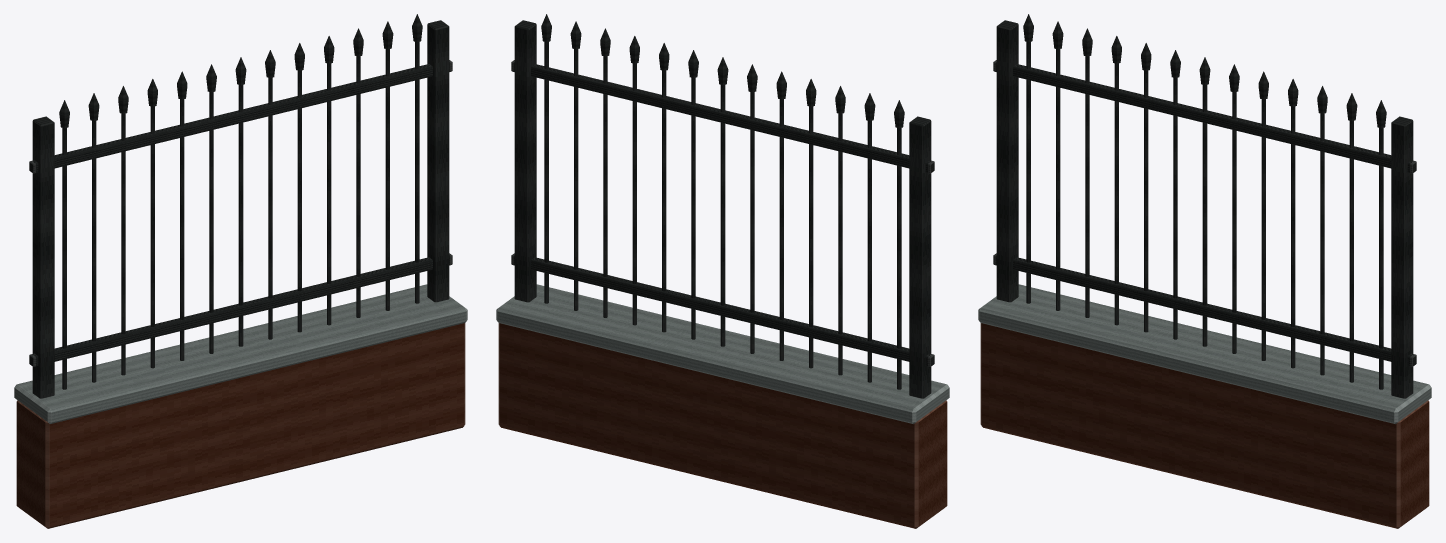
Rendered from level_enclosure_urban.glb.
3 views of the same model, side by side, from view 1: azimuth 30°, elevation 25°; view 2: azimuth 150°, elevation 25°; view 3: azimuth 330°, elevation 25° (orthographic).
Visible parts, largest first — view 1: level_enclosure_urban; view 2: level_enclosure_urban; view 3: level_enclosure_urban.
Part boxes in pixels (box(x1,y1,x2,y2)): level_enclosure_urban: box(14, 14, 467, 528); level_enclosure_urban: box(496, 14, 949, 528); level_enclosure_urban: box(978, 14, 1431, 528).
Size of the model in its own units: 2 by 1.87 by 0.3.
Materials: 3 (3 with a texture image).
